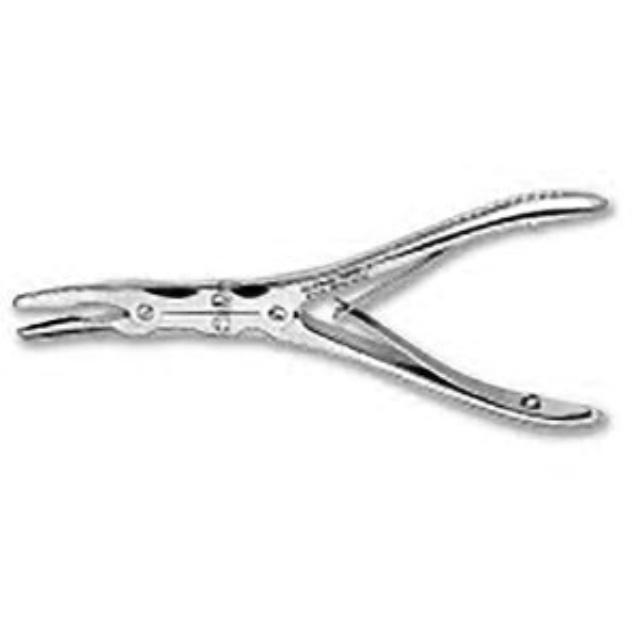gubia: (12, 189, 616, 433)
